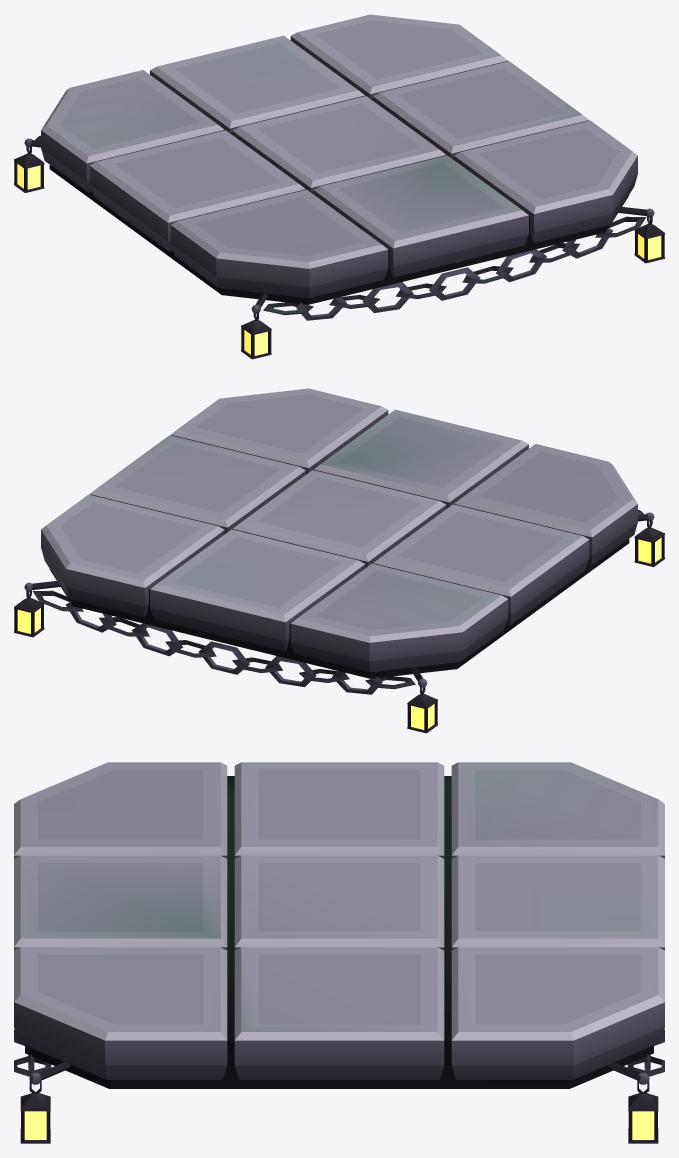
Rendered from platform_haunted.glb.
3 renders of one model, top to bottom at view 1: azimuth 30°, elevation 25°; view 2: azimuth 150°, elevation 25°; view 3: azimuth 270°, elevation 25°, orthographic. The views are drawn at different scales.
Visible parts, largest first — view 1: platform_haunted; view 2: platform_haunted; view 3: platform_haunted.
Boxes of the visible parts, x1,y1,x2,y2 form: platform_haunted: (14,14,664,359); platform_haunted: (14,388,664,733); platform_haunted: (14,762,664,1143).
Size of the model in its own units: 3 by 0.6 by 3.
